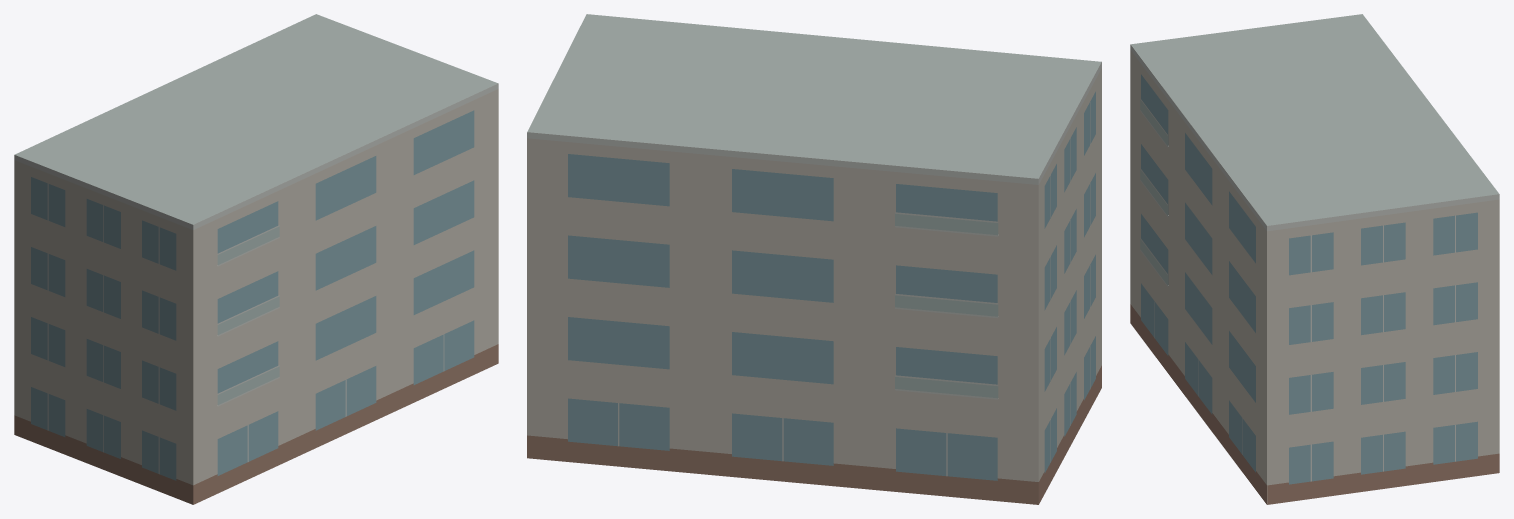
Rendered from survey-upis-33032276.glb.
3 views of the same model, side by side, from view 1: azimuth 30°, elevation 25°; view 2: azimuth 150°, elevation 25°; view 3: azimuth 270°, elevation 25° (orthographic). The views are drawn at different scales.
Parts seen in each view (by area): view 1: survey-upis-33032276.tmp; view 2: survey-upis-33032276.tmp; view 3: survey-upis-33032276.tmp.
Boxes of the visible parts, x1,y1,x2,y2 form: survey-upis-33032276.tmp: (14, 14, 498, 504); survey-upis-33032276.tmp: (527, 14, 1101, 504); survey-upis-33032276.tmp: (1130, 14, 1499, 504).
Bounding box in the file's own units: 20.88 × 12.8 × 15.36.
